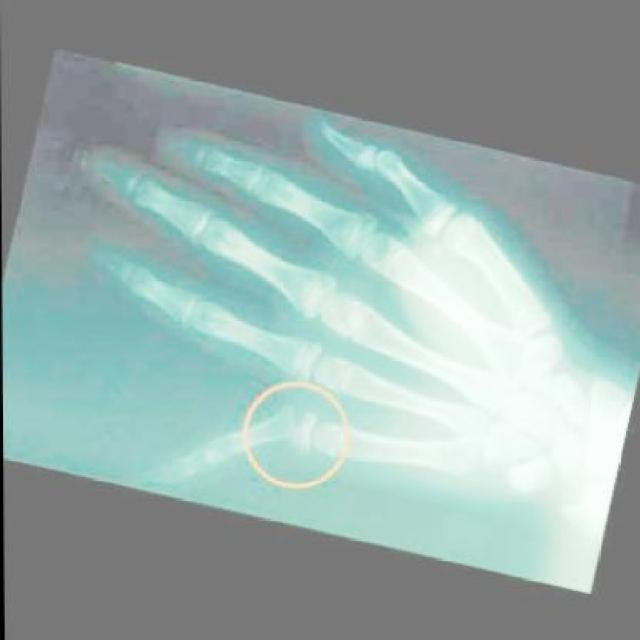Fracture: (260, 396, 324, 467)
